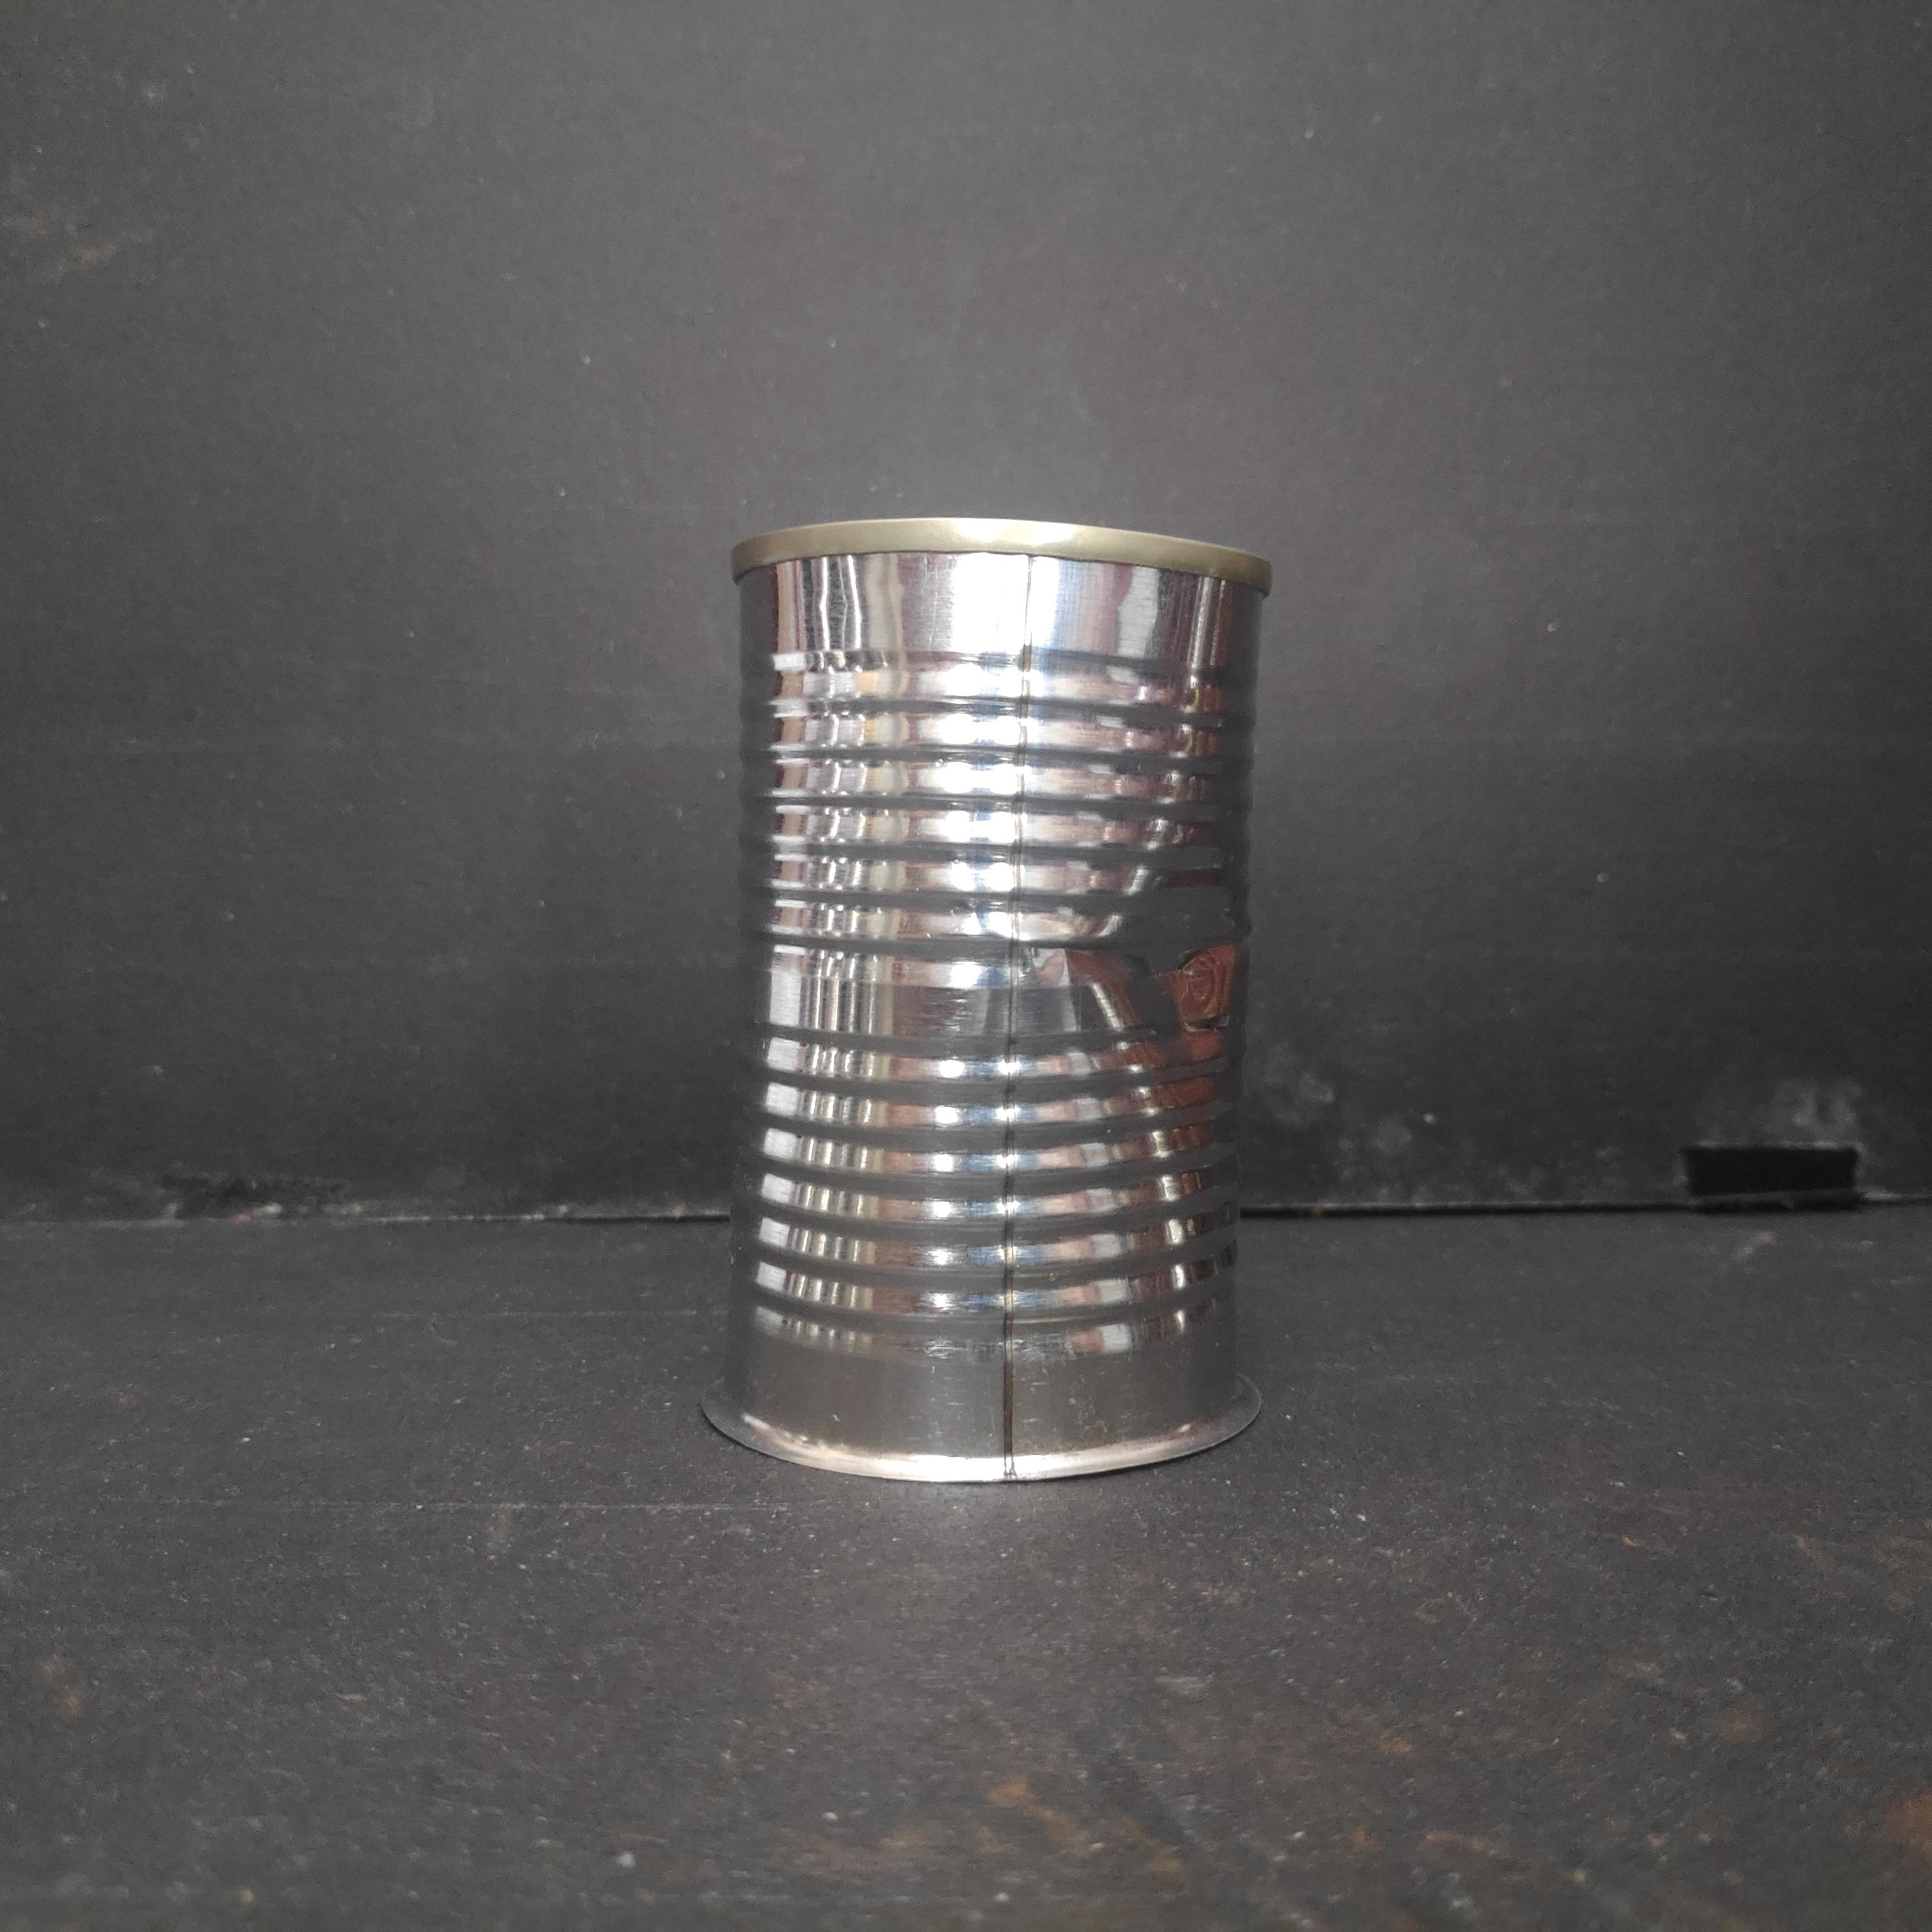Minor Defect: (708, 502, 1283, 1502)
